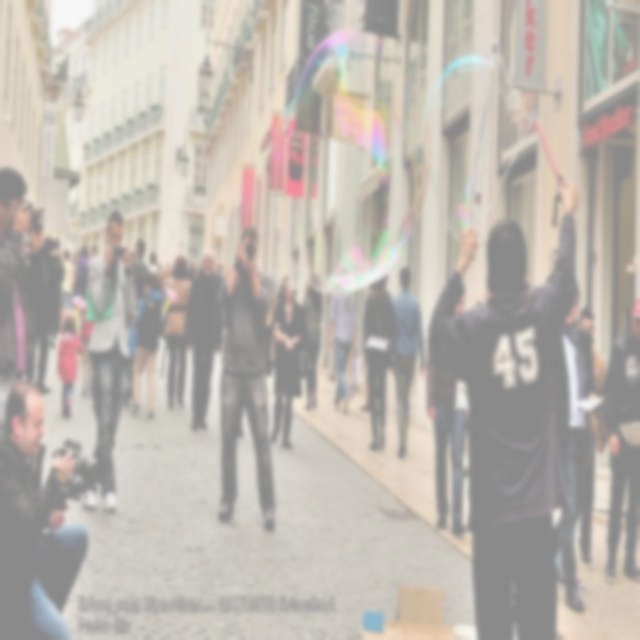pessoa: (425, 176, 582, 639), (78, 310, 266, 639), (0, 378, 100, 639), (78, 206, 138, 515), (216, 224, 276, 532), (552, 280, 600, 616), (0, 163, 52, 425), (424, 282, 469, 536), (602, 296, 640, 587), (576, 304, 612, 566), (182, 245, 226, 432), (387, 264, 427, 461), (267, 271, 309, 452), (360, 274, 398, 454), (326, 264, 363, 417), (24, 234, 58, 394), (128, 268, 164, 418), (159, 252, 192, 410), (358, 272, 389, 412), (294, 270, 324, 412), (56, 310, 85, 420), (554, 514, 586, 606), (122, 298, 142, 411), (125, 237, 151, 300), (60, 248, 76, 329), (50, 236, 69, 302), (263, 291, 276, 381), (73, 243, 90, 302), (69, 246, 80, 311), (162, 260, 174, 304), (474, 285, 492, 311), (186, 257, 202, 284), (456, 458, 474, 482), (148, 250, 162, 275), (214, 260, 230, 281), (220, 308, 227, 340), (88, 243, 98, 260), (154, 259, 162, 271)
